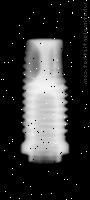Nobel Biocare: (20, 37, 70, 164)
